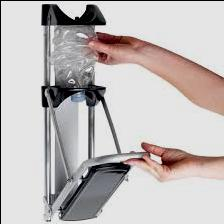Plastic: (49, 23, 98, 94)
